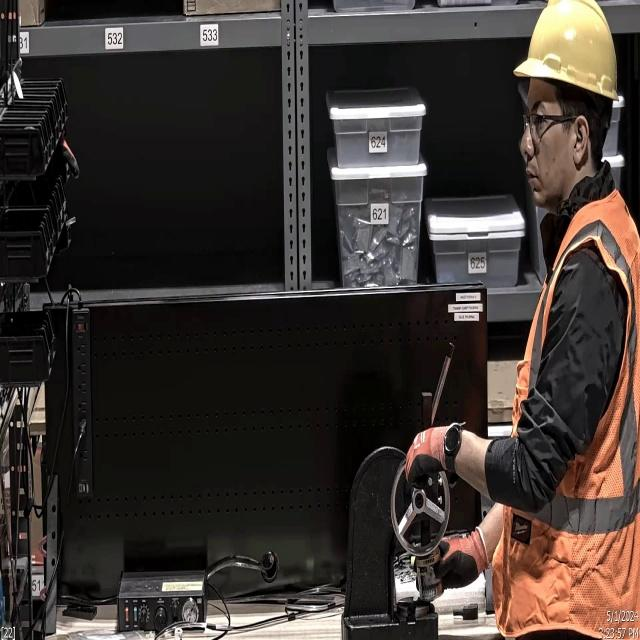construction-gloves: (407, 526, 488, 606), (404, 420, 472, 498)
